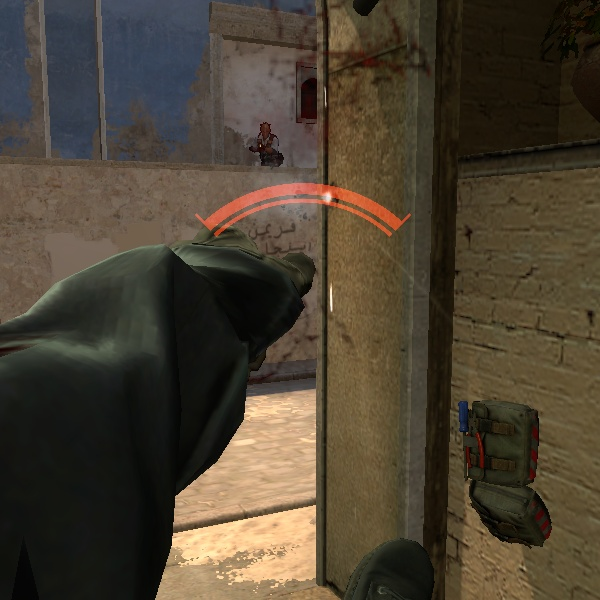t_body: (249, 118, 283, 166)
t_head: (255, 120, 277, 143)
